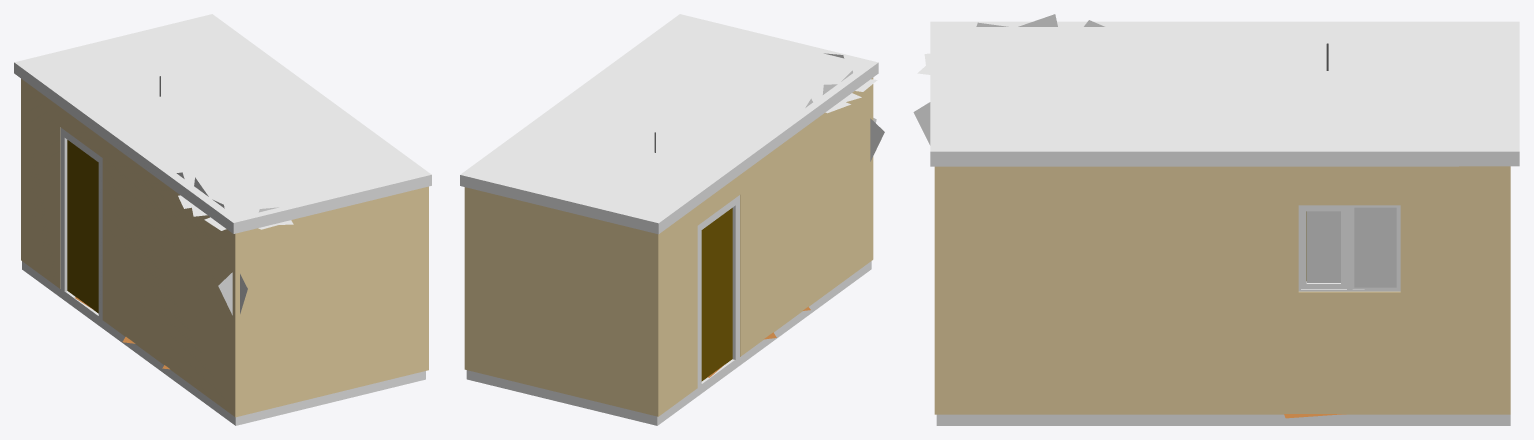
Rendered from FloorPlan26_physics.fbx.
3 views of the same model, side by side, from view 1: azimuth 30°, elevation 25°; view 2: azimuth 150°, elevation 25°; view 3: azimuth 270°, elevation 25° (orthographic). The views are drawn at different scales.
Parts seen in each view (by area): view 1: Room.025, Ceiling.001, Door, Floor.001, DoorFrame, Cube.174_1, Cube.174_2; view 2: Room.025, Ceiling.001, Door, Floor.001, DoorFrame, Cube.174_1; view 3: Room.025, Ceiling.001, Floor.001, WindowPane, WindowFrame, Cube.174_1.
Part boxes in pixels (<box>): Room.025: <box>21,78,428,417</box>; Ceiling.001: <box>14,14,431,233</box>; Door: <box>67,140,98,313</box>; Floor.001: <box>22,261,425,425</box>; DoorFrame: <box>60,127,102,319</box>; Cube.174_1: <box>176,172,278,315</box>; Cube.174_2: <box>178,195,293,230</box>; Room.025: <box>464,78,873,416</box>; Ceiling.001: <box>460,14,878,234</box>; Door: <box>701,208,732,381</box>; Floor.001: <box>466,261,871,425</box>; DoorFrame: <box>697,195,739,387</box>; Cube.174_1: <box>805,53,884,161</box>; Room.025: <box>934,166,1510,414</box>; Ceiling.001: <box>930,21,1519,166</box>; Floor.001: <box>936,414,1510,425</box>; WindowPane: <box>1307,207,1396,287</box>; WindowFrame: <box>1298,205,1400,291</box>; Cube.174_1: <box>913,14,1104,145</box>.
Bounding box in the file's own units: 292 × 294 × 530.
